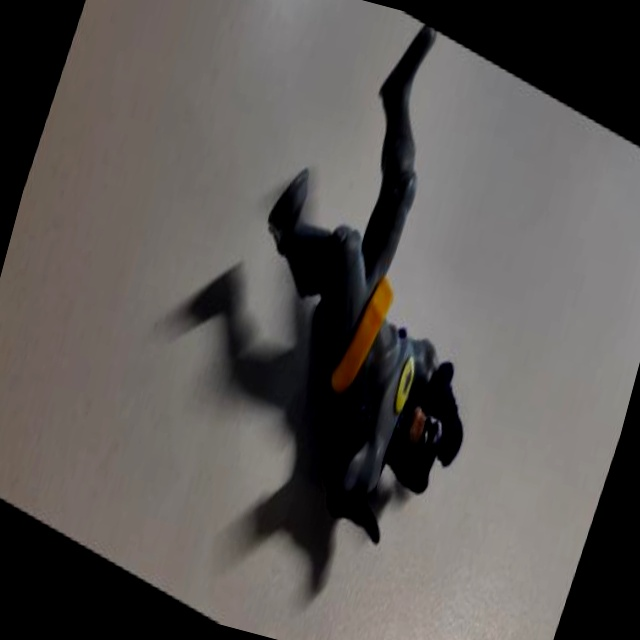Batman: (167, 0, 591, 623)
